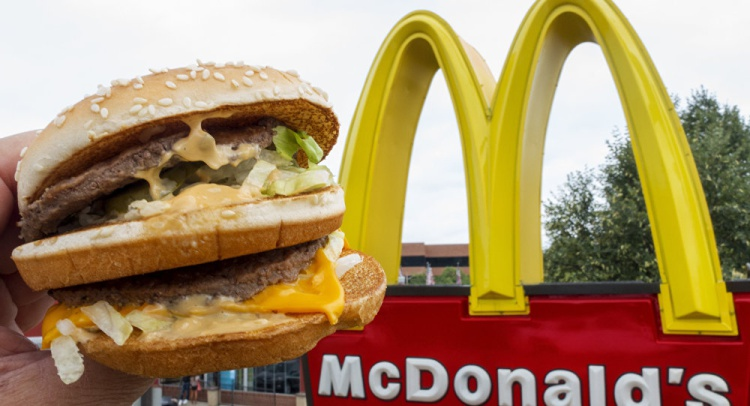mcdonalds: (336, 1, 744, 346)
